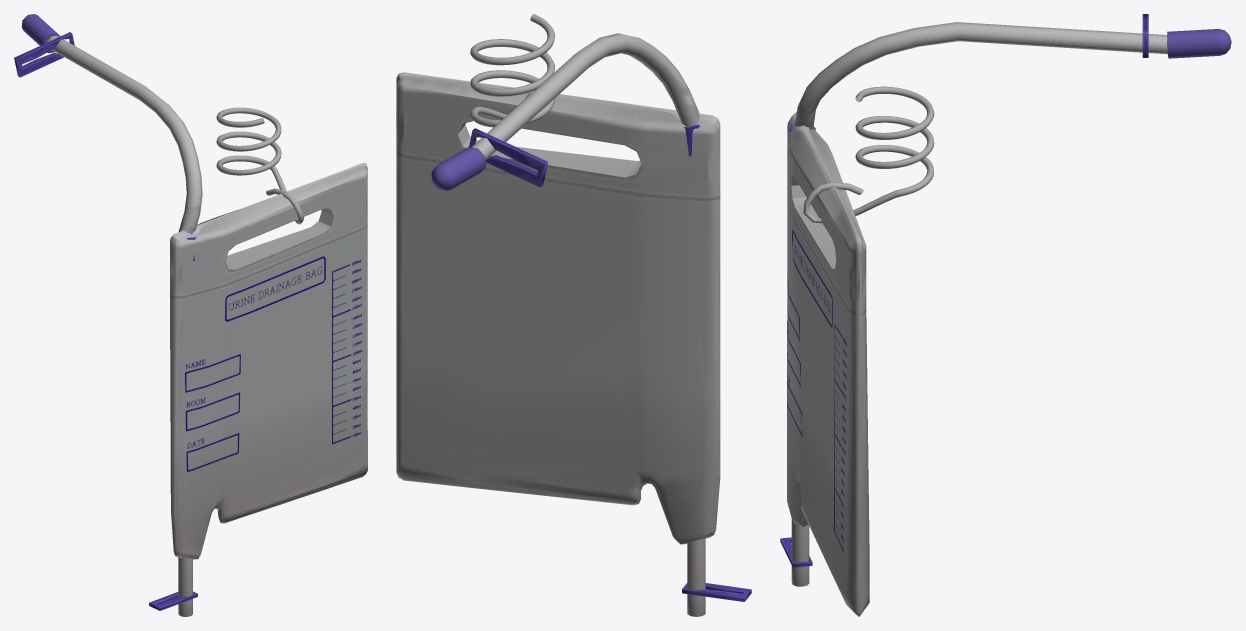
The model's file is Urinbag_Bed_01.fbx.
3 renders of one model, left to right at view 1: azimuth 30°, elevation 25°; view 2: azimuth 150°, elevation 25°; view 3: azimuth 270°, elevation 25°, orthographic. The views are drawn at different scales.
Parts seen in each view (by area): view 1: Bed_UrinbagBed, Bed_UrinpartTop; view 2: Bed_UrinbagBed, Bed_UrinpartTop, Bed_UrinpartUnder; view 3: Bed_UrinbagBed.
Part boxes in pixels (x1,y1,x2,y2): Bed_UrinbagBed: [21, 14, 367, 616]; Bed_UrinpartTop: [14, 32, 74, 77]; Bed_UrinbagBed: [396, 14, 720, 616]; Bed_UrinpartTop: [469, 128, 547, 187]; Bed_UrinpartUnder: [682, 583, 751, 601]; Bed_UrinbagBed: [787, 22, 1231, 616].
Size of the model in its own units: 20.89 by 38.9 by 27.78.
